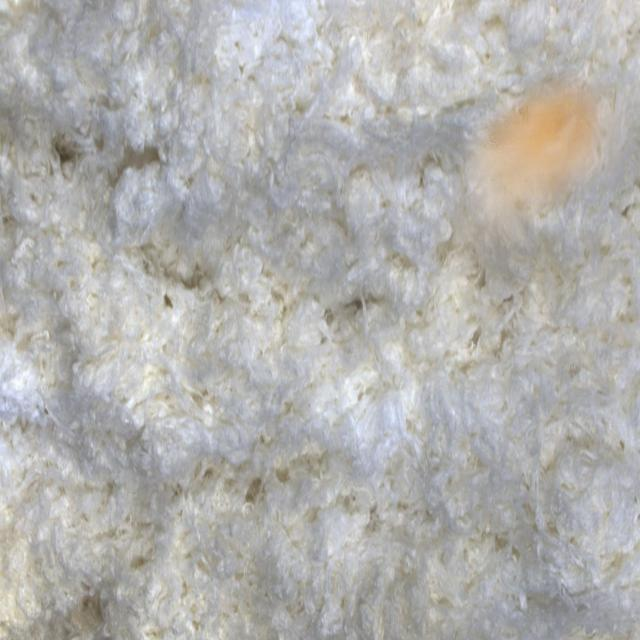dust: (445, 70, 640, 313)
